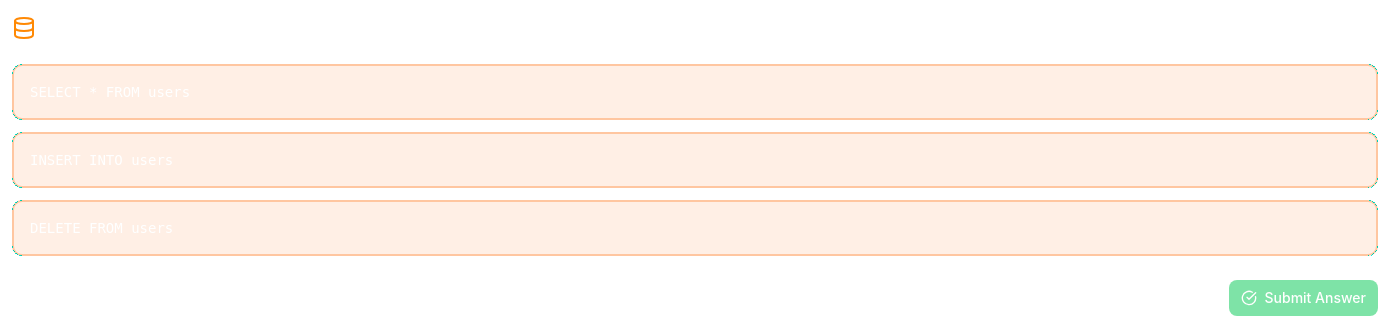
Test case: SelectQuery › submission › enables submit button when option selected
Step 1. Click the button "SELECT * FROM users" → (110, 92), box [12, 64, 1378, 120]
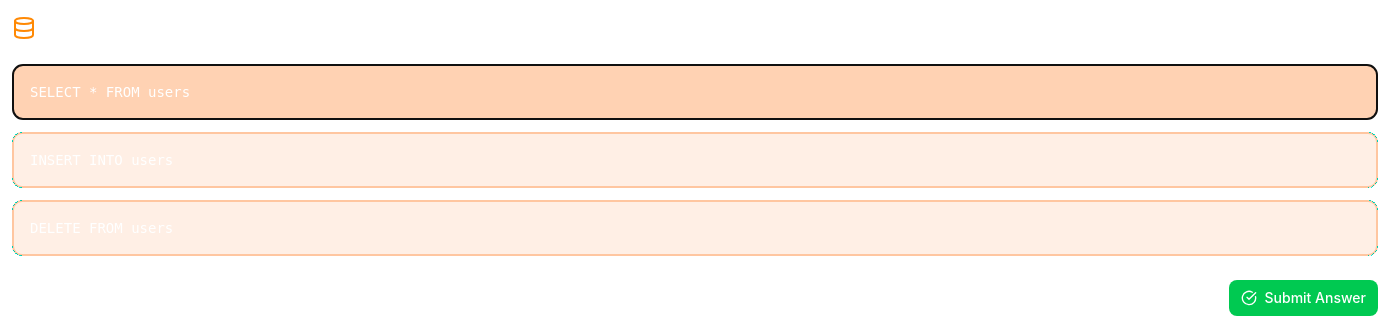
Expected: the button "Submit Answer" is enabled, [1228, 280, 1378, 316]
